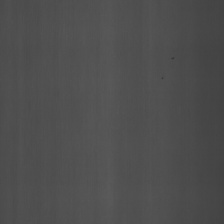inclusion: (159, 65, 167, 89), (166, 51, 177, 65)
